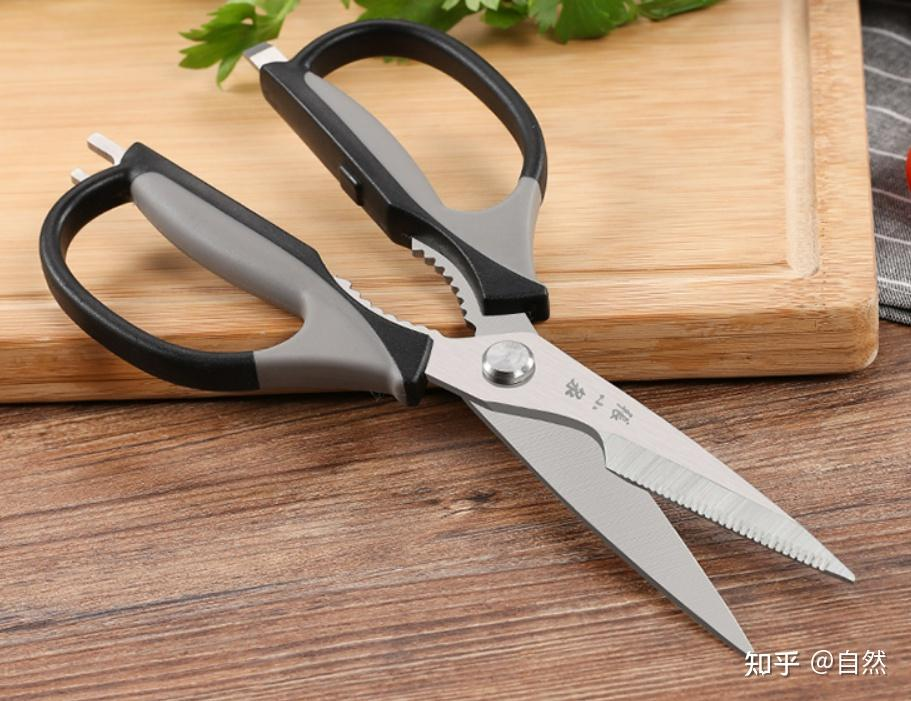scissors: (27, 15, 865, 675)
